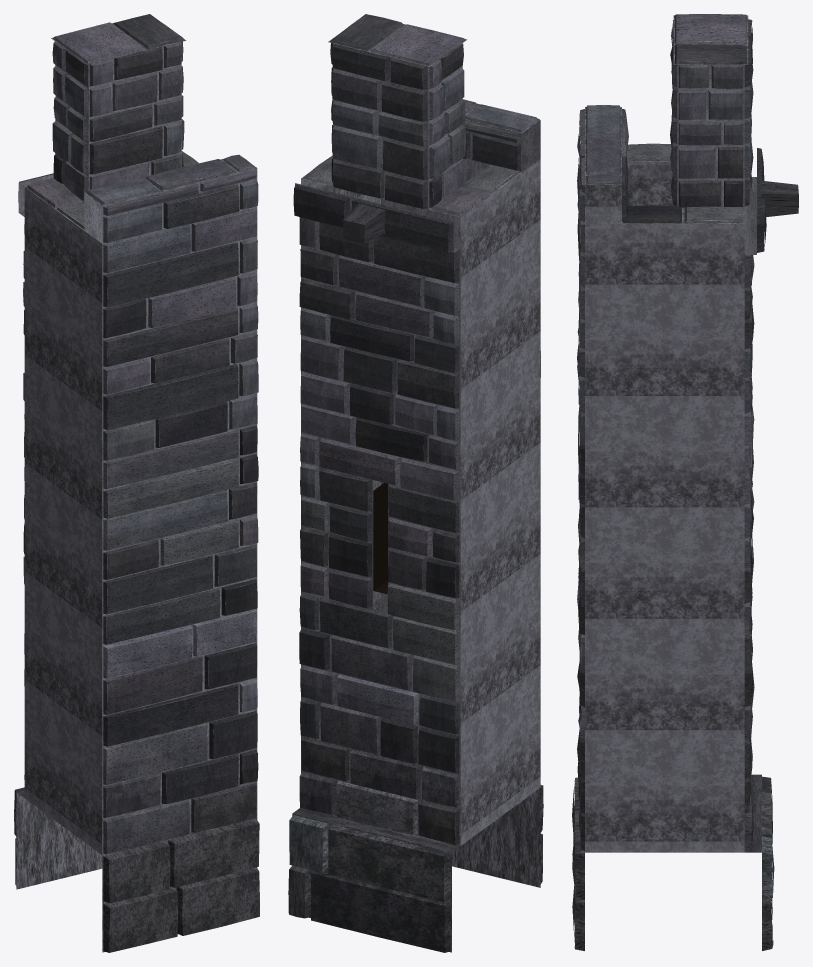
Rendered from fort_wall_gable.glb.
The picture shows the model from 3 angles, left to right: view 1: azimuth 30°, elevation 25°; view 2: azimuth 150°, elevation 25°; view 3: azimuth 270°, elevation 25°; orthographic projection. The views are drawn at different scales.
Parts seen in each view (by area): view 1: fort_wall_gable; view 2: fort_wall_gable; view 3: fort_wall_gable.
Boxes of the visible parts, x1,y1,x2,y2 form: fort_wall_gable: [14, 14, 259, 952]; fort_wall_gable: [288, 14, 543, 952]; fort_wall_gable: [572, 14, 798, 950].
Bounding box in the file's own units: 1.5 × 7.89 × 1.85.
Materials: 3 (3 with a texture image).
